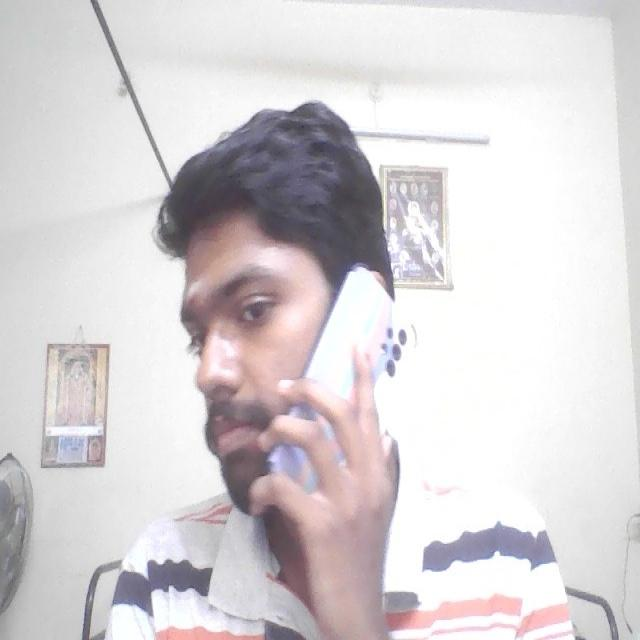Mobile: (304, 264, 419, 443)
